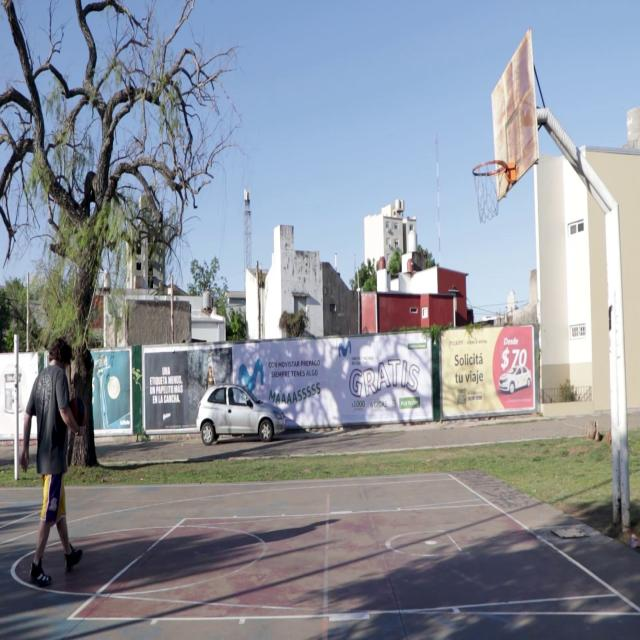ball: (68, 398, 88, 429)
